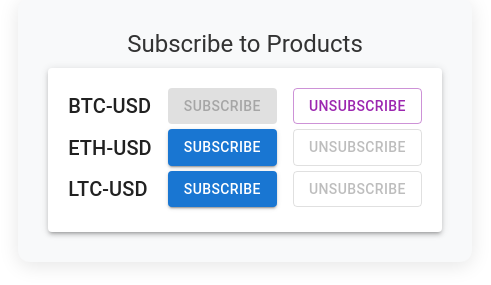
Subscribe Component › handles unsubscribing from a product
The width and height of the screenshot is (491, 285).
# Click the unsubscribe button for "BTC-USD"
Step 1. Click the button with test id "unsubscribe-button-BTC-USD" → (357, 106), box [293,88,422,124]
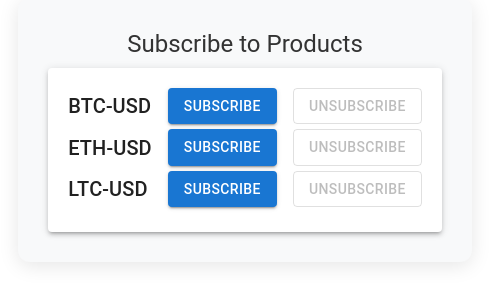
Check: the button with test id "unsubscribe-button-BTC-USD" is disabled, box [293,88,422,124]
Check: the button with test id "subscribe-button-BTC-USD" is enabled, box [168,88,277,124]
